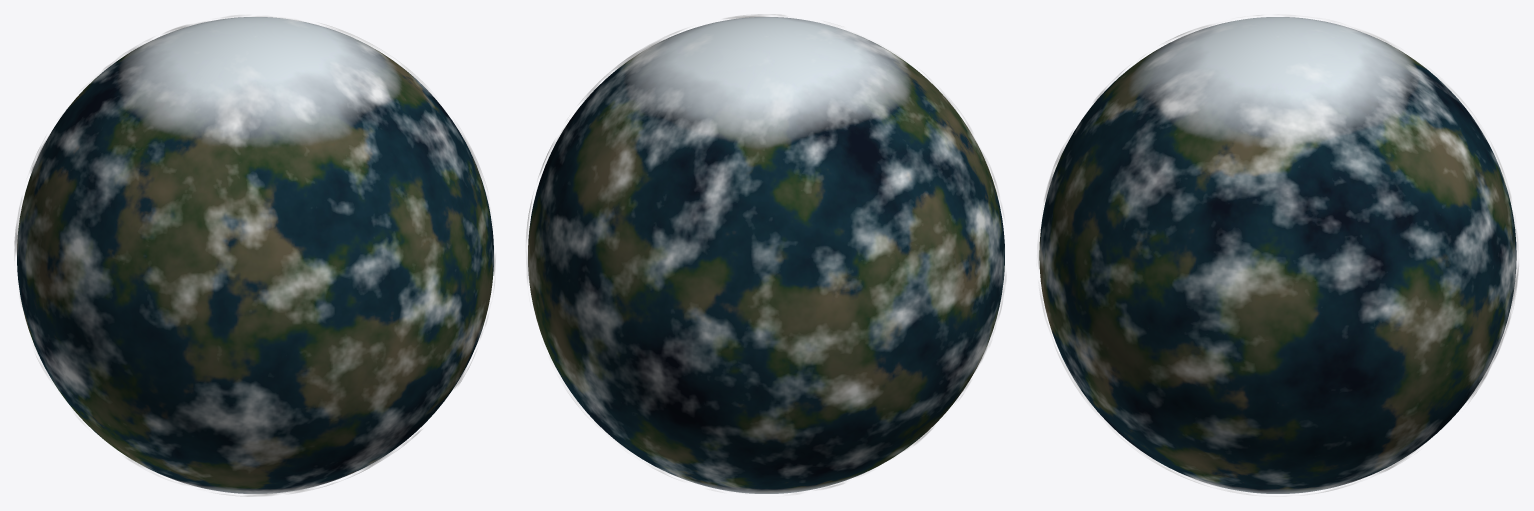
Rendered from tasa-planet.glb.
3 renders of one model, left to right at view 1: azimuth 30°, elevation 25°; view 2: azimuth 150°, elevation 25°; view 3: azimuth 270°, elevation 25°, orthographic.
Parts seen in each view (by area): view 1: planet, clouds; view 2: planet, clouds; view 3: planet, clouds.
Part boxes in pixels (x1=…): planet: x1=17, y1=17, x2=493, y2=493; clouds: x1=14, y1=15, x2=495, y2=496; planet: x1=528, y1=17, x2=1004, y2=493; clouds: x1=526, y1=14, x2=1006, y2=494; planet: x1=1039, y1=17, x2=1516, y2=493; clouds: x1=1037, y1=14, x2=1518, y2=496.
Bounding box in the file's own units: 2.02 × 2.02 × 2.02.
2 materials, 2 textured.
